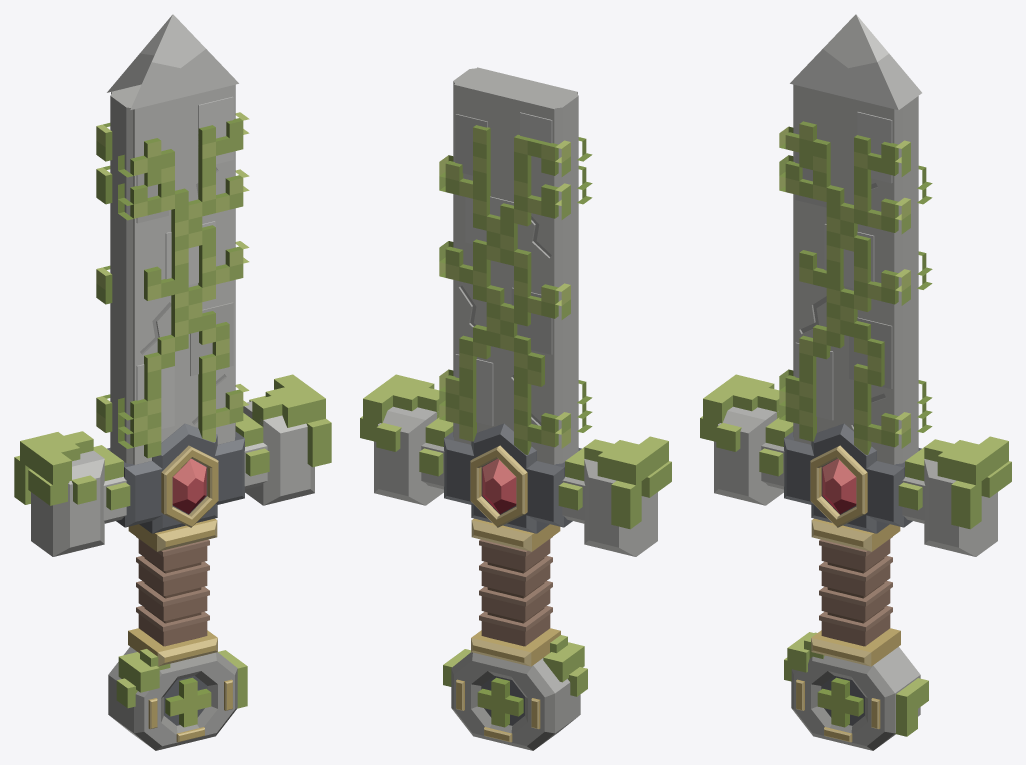
Rendered from mossstone_blade_roblox.glb.
The picture shows the model from 3 angles, left to right: view 1: azimuth 30°, elevation 25°; view 2: azimuth 150°, elevation 25°; view 3: azimuth 330°, elevation 25°; orthographic projection.
Parts seen in each view (by area): view 1: Blade, Gems; view 2: Blade, Gems; view 3: Blade, Gems.
Boxes of the visible parts, left/top/right/bottom form: Blade: left=14, top=14, right=331, bottom=750; Gems: left=172, top=458, right=206, bottom=514; Blade: left=360, top=67, right=671, bottom=750; Gems: left=482, top=458, right=516, bottom=514; Blade: left=700, top=14, right=1011, bottom=750; Gems: left=822, top=458, right=856, bottom=514.
Size of the model in its own units: 0.51 by 1.26 by 0.144.
